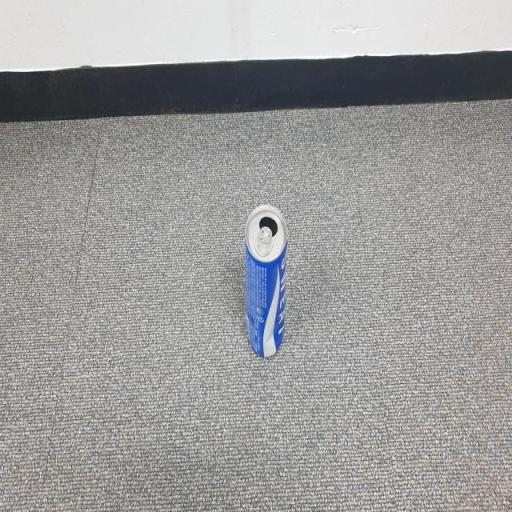metal: (222, 176, 315, 398)
